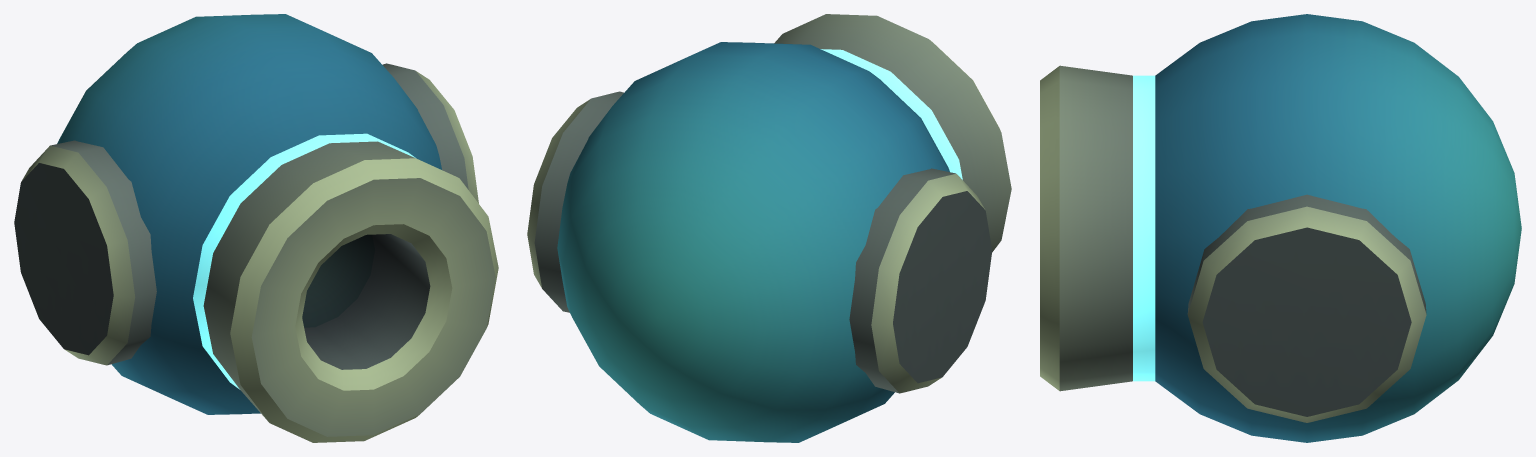
File: matt-mortar-head.glb
3 renders of one model, left to right at view 1: azimuth 30°, elevation 25°; view 2: azimuth 150°, elevation 25°; view 3: azimuth 270°, elevation 25°, orthographic. The views are drawn at different scales.
Visible parts, largest first — view 1: turret_mortar_head; view 2: turret_mortar_head; view 3: turret_mortar_head.
Part boxes in pixels (x1,y1,x2,y2): turret_mortar_head: (14, 14, 498, 442); turret_mortar_head: (527, 14, 1011, 442); turret_mortar_head: (1040, 14, 1521, 442).
Bounding box in the file's own units: 1.67 × 1.61 × 1.8.
Materials: 1 (1 with a texture image).
